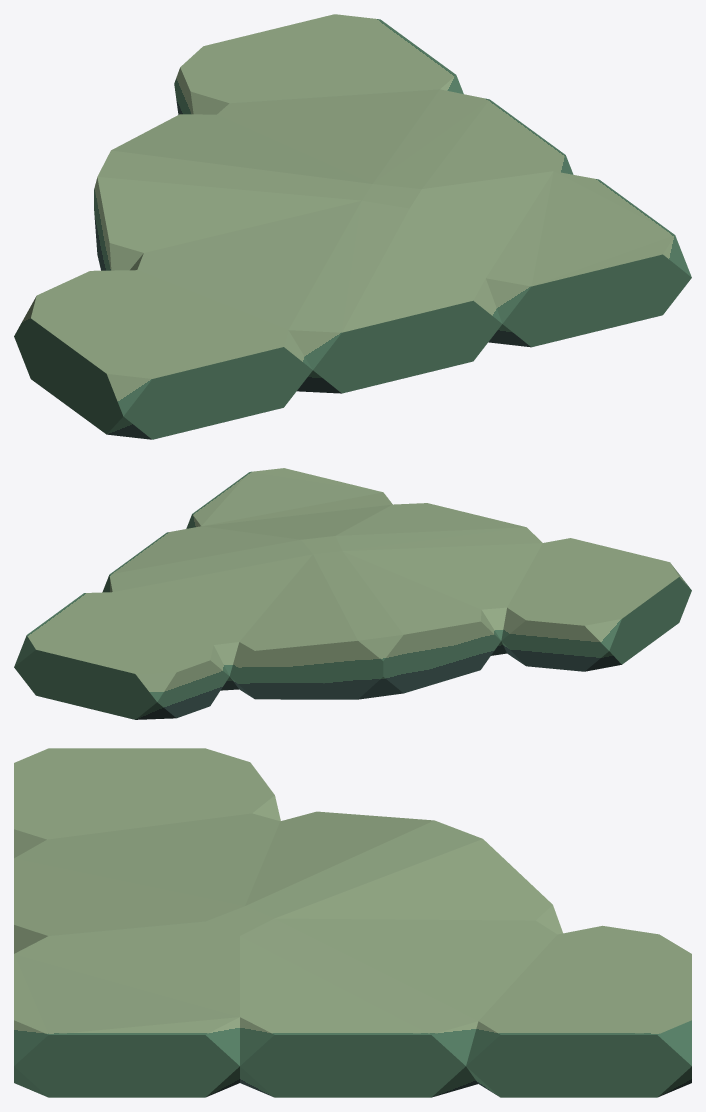
The model's file is Tiles 3.003.fbx.
The picture shows the model from 3 angles, top to bottom: view 1: azimuth 30°, elevation 25°; view 2: azimuth 150°, elevation 25°; view 3: azimuth 270°, elevation 25°; orthographic projection. The views are drawn at different scales.
Visible parts, largest first — view 1: Tiles 3.003; view 2: Tiles 3.003; view 3: Tiles 3.003.
Boxes of the visible parts, x1,y1,x2,y2 form: Tiles 3.003: (14, 14, 691, 439); Tiles 3.003: (14, 468, 691, 719); Tiles 3.003: (14, 748, 691, 1097).
Size of the model in its own units: 495 by 65.79 by 495.
